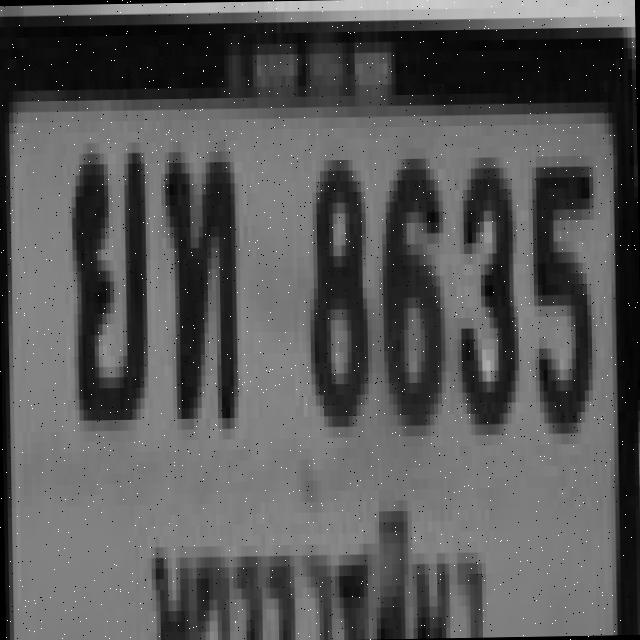3: (450, 146, 516, 424)
32ThorThaHan: (160, 140, 234, 419)
43YorYak: (66, 136, 144, 415)
5: (527, 156, 593, 424)
6: (376, 147, 442, 415)
8: (303, 149, 365, 416)
NakhonRatchasima: (129, 489, 490, 640)
